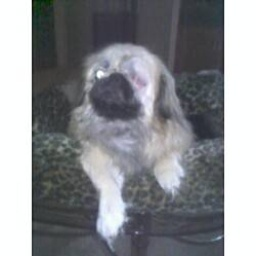dog: (71, 39, 194, 245)
